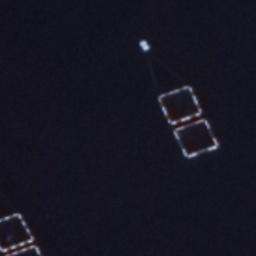square_solid: (171, 115, 224, 162), (155, 82, 206, 127), (1, 210, 38, 254)
